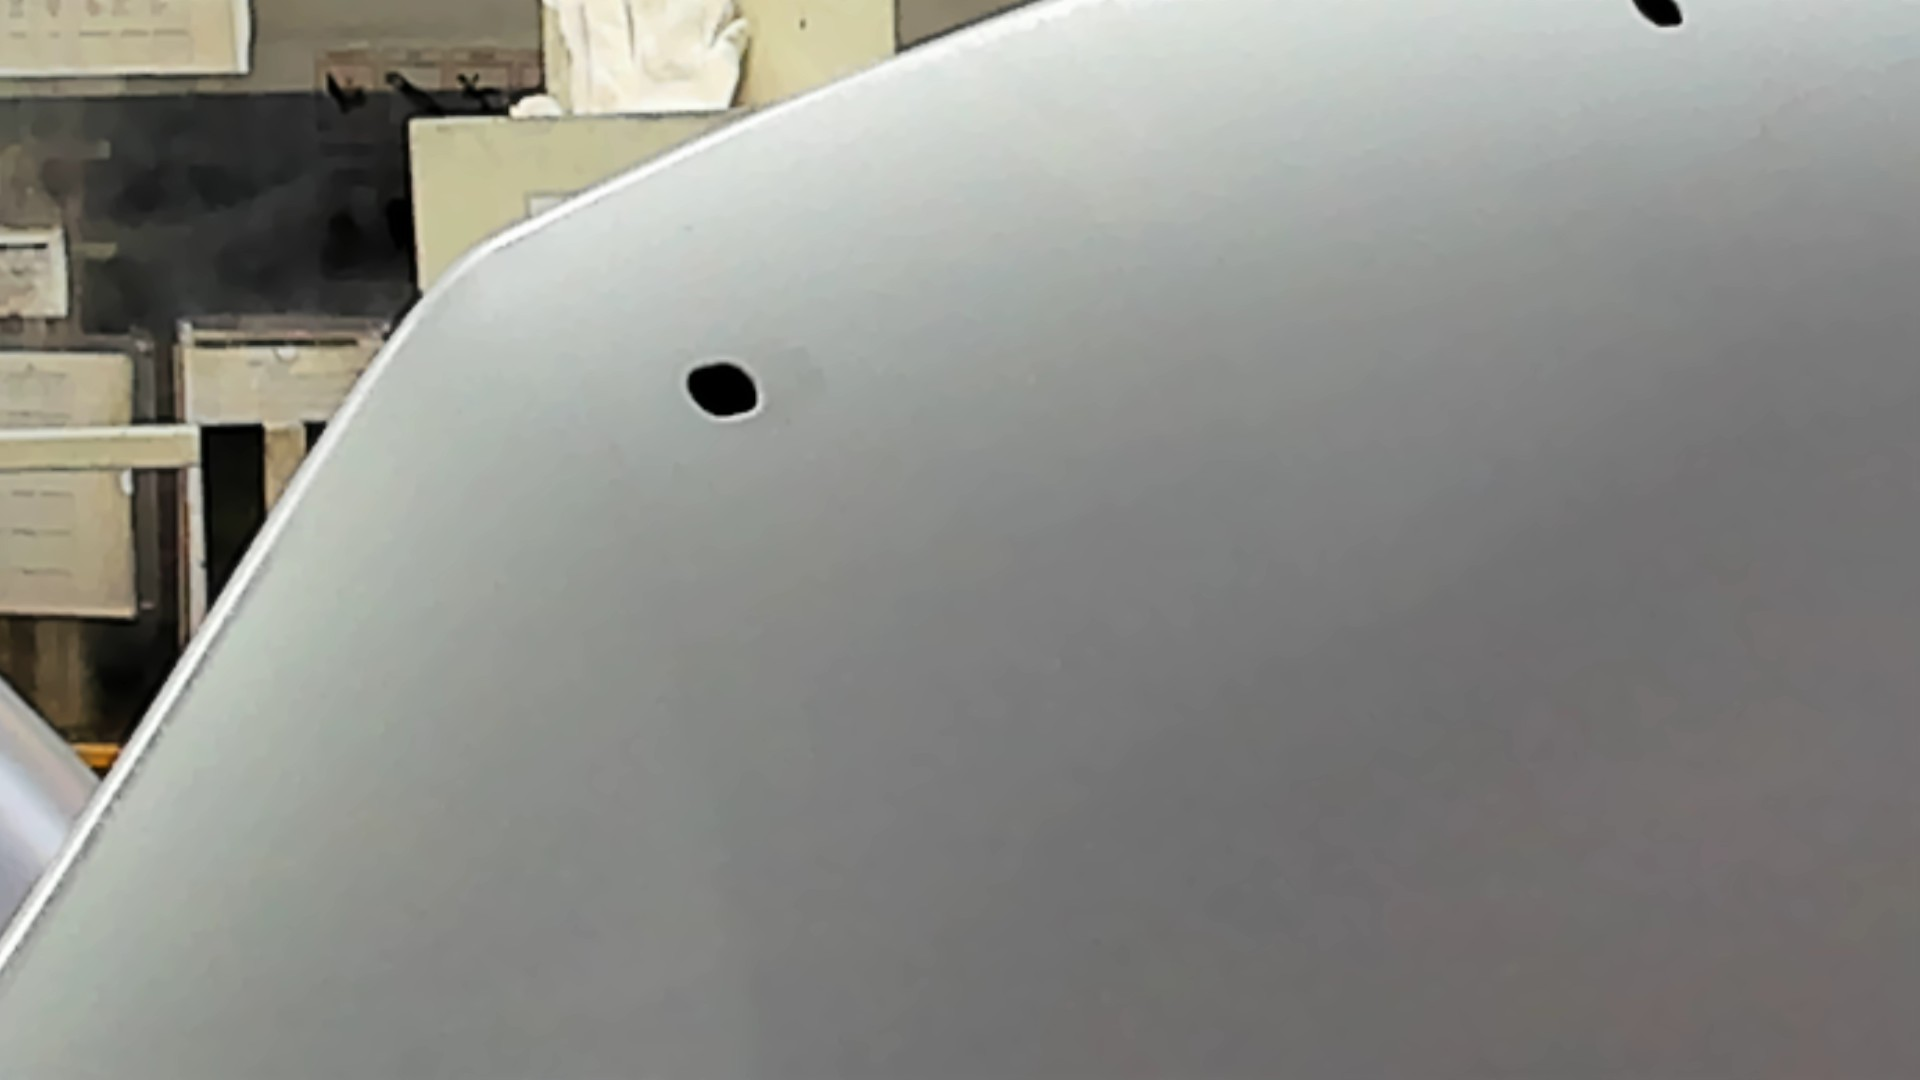amorfo: (680, 359, 766, 425), (1629, 1, 1689, 33)
